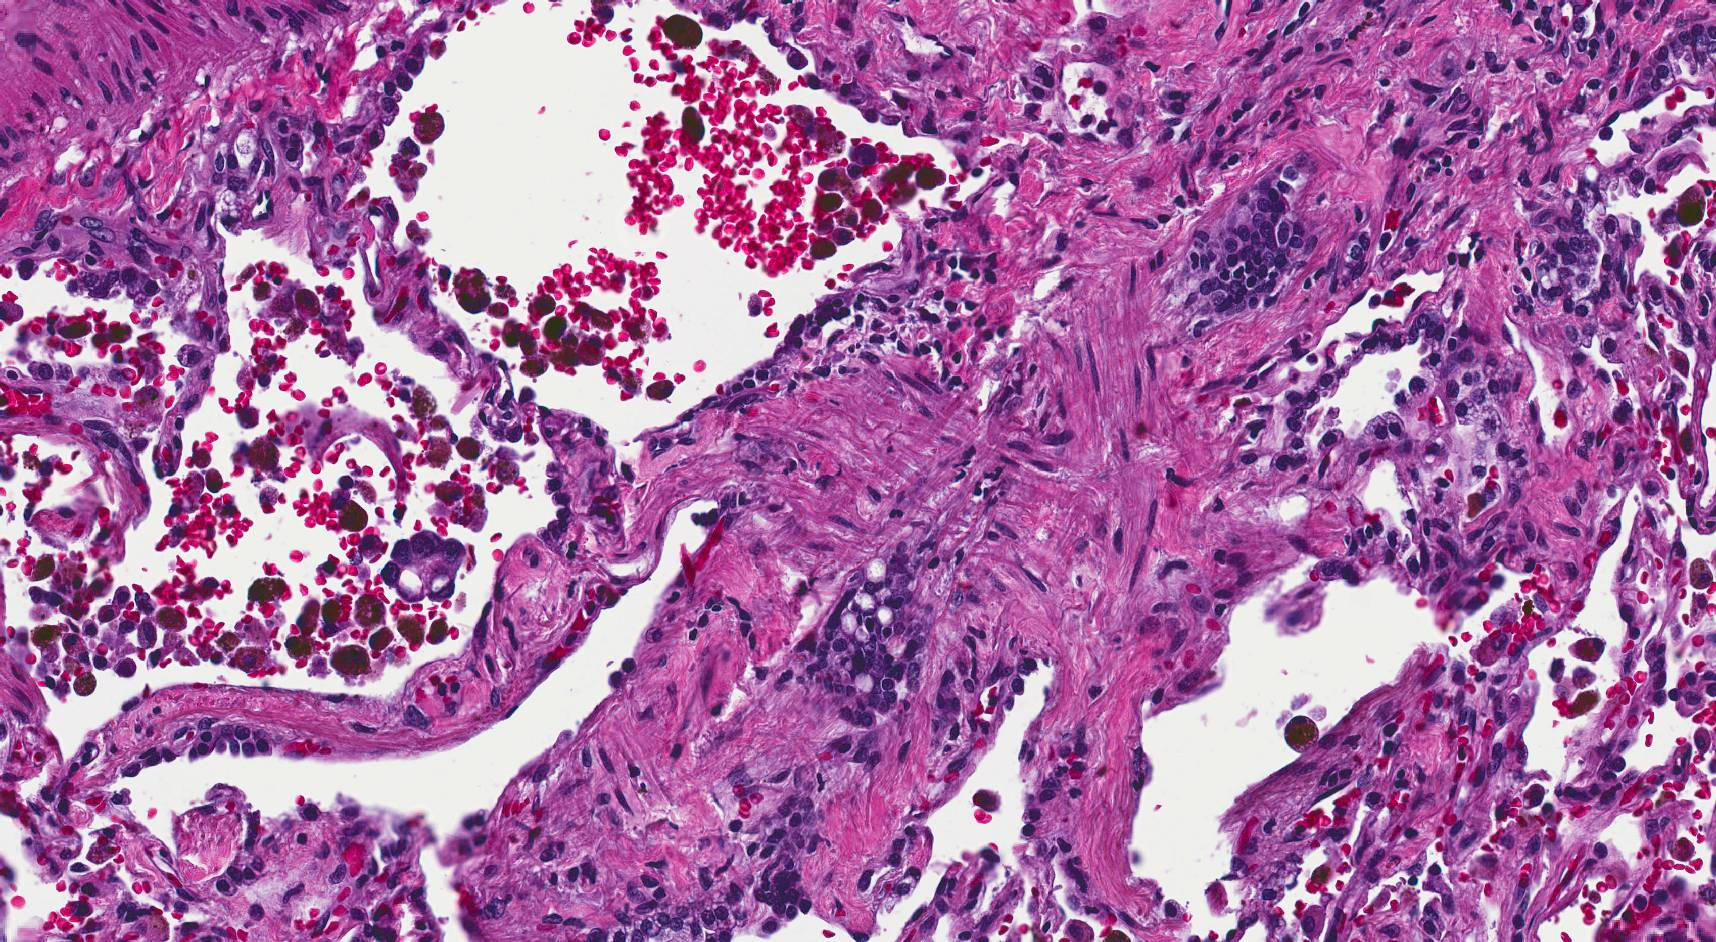stas: (378, 532, 467, 606)
